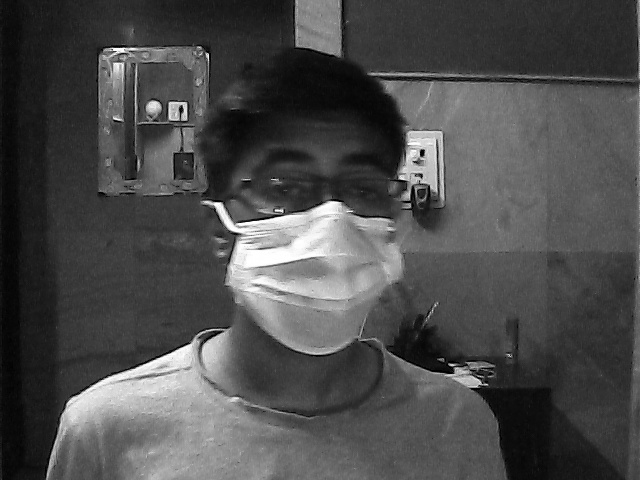mask: (219, 109, 395, 362)
